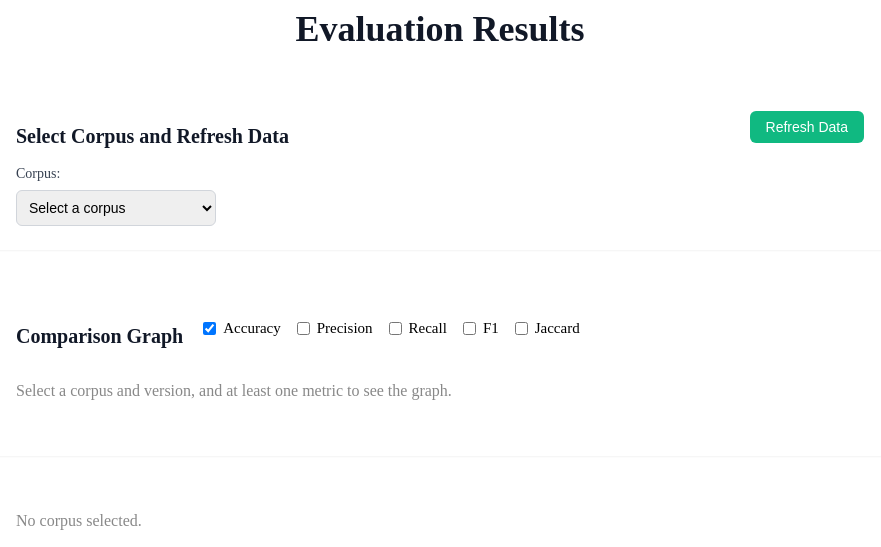
Test: EvaluationPage › shows version dropdown when corpus is selected
This screenshot has width=881, height=547.
Step 1. Select "gold_corpus" in the dropdown showing "Select a corpus" → point(116, 208), box x1=16 y1=190 x2=216 y2=226
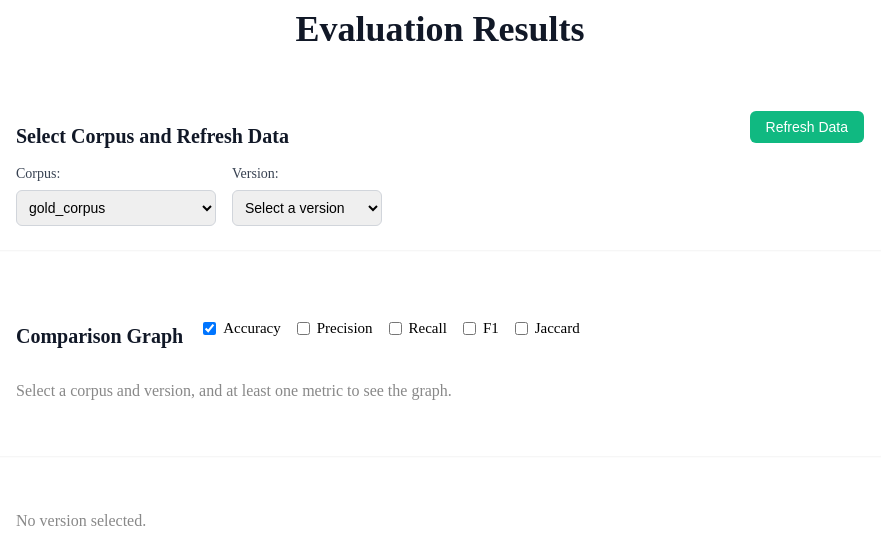
expect the dropdown showing "Select a version" below "Version:" is shown: met, box x1=232 y1=190 x2=382 y2=226
